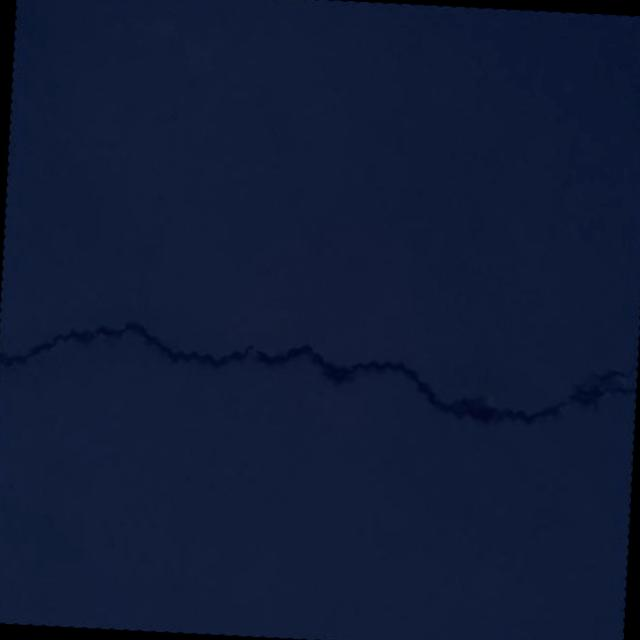crack: (0, 311, 639, 432)
